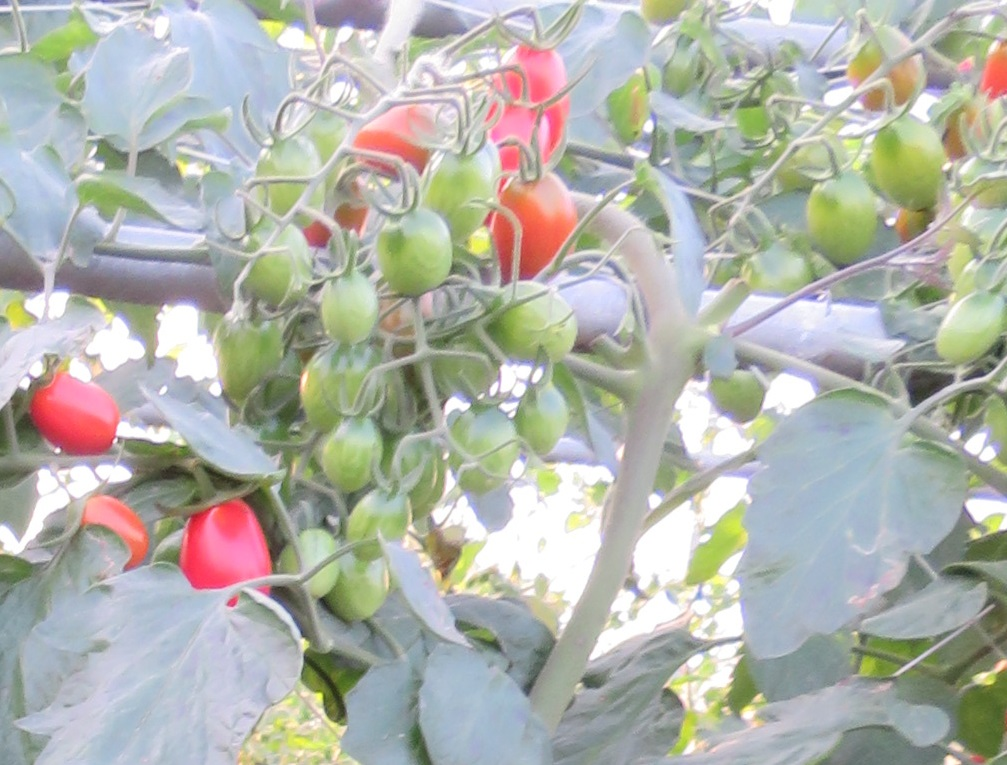green: (868, 109, 950, 208), (489, 281, 578, 363), (254, 132, 326, 227), (933, 280, 1007, 368), (236, 224, 313, 308), (300, 349, 387, 423), (369, 212, 453, 286), (451, 404, 517, 493), (808, 172, 873, 259), (217, 316, 284, 400), (320, 264, 379, 349), (429, 151, 498, 223), (320, 416, 384, 487), (284, 529, 340, 596), (738, 252, 812, 298), (517, 387, 567, 455), (352, 487, 417, 538), (706, 374, 764, 428), (347, 562, 387, 621), (642, 1, 695, 27)
orange: (496, 180, 579, 279), (346, 105, 436, 177), (74, 498, 151, 571)
red: (29, 369, 122, 455), (177, 511, 265, 578), (489, 38, 577, 105), (492, 105, 548, 169)
